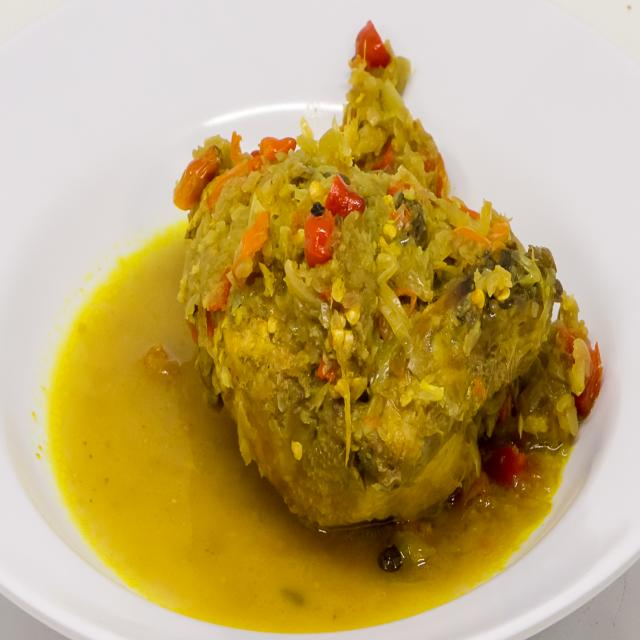Ayam-Betutu: (166, 18, 606, 562)
